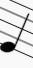note: (1, 3, 31, 56)
